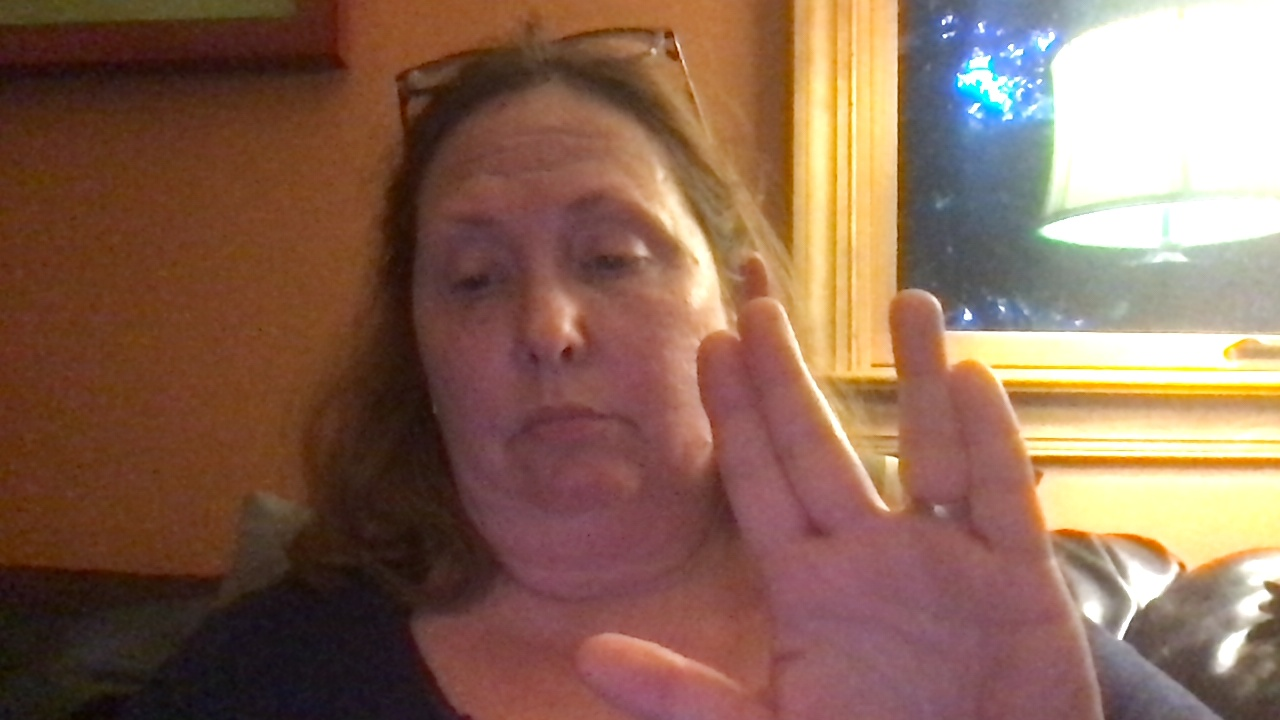livelong: (570, 288, 1111, 720)
